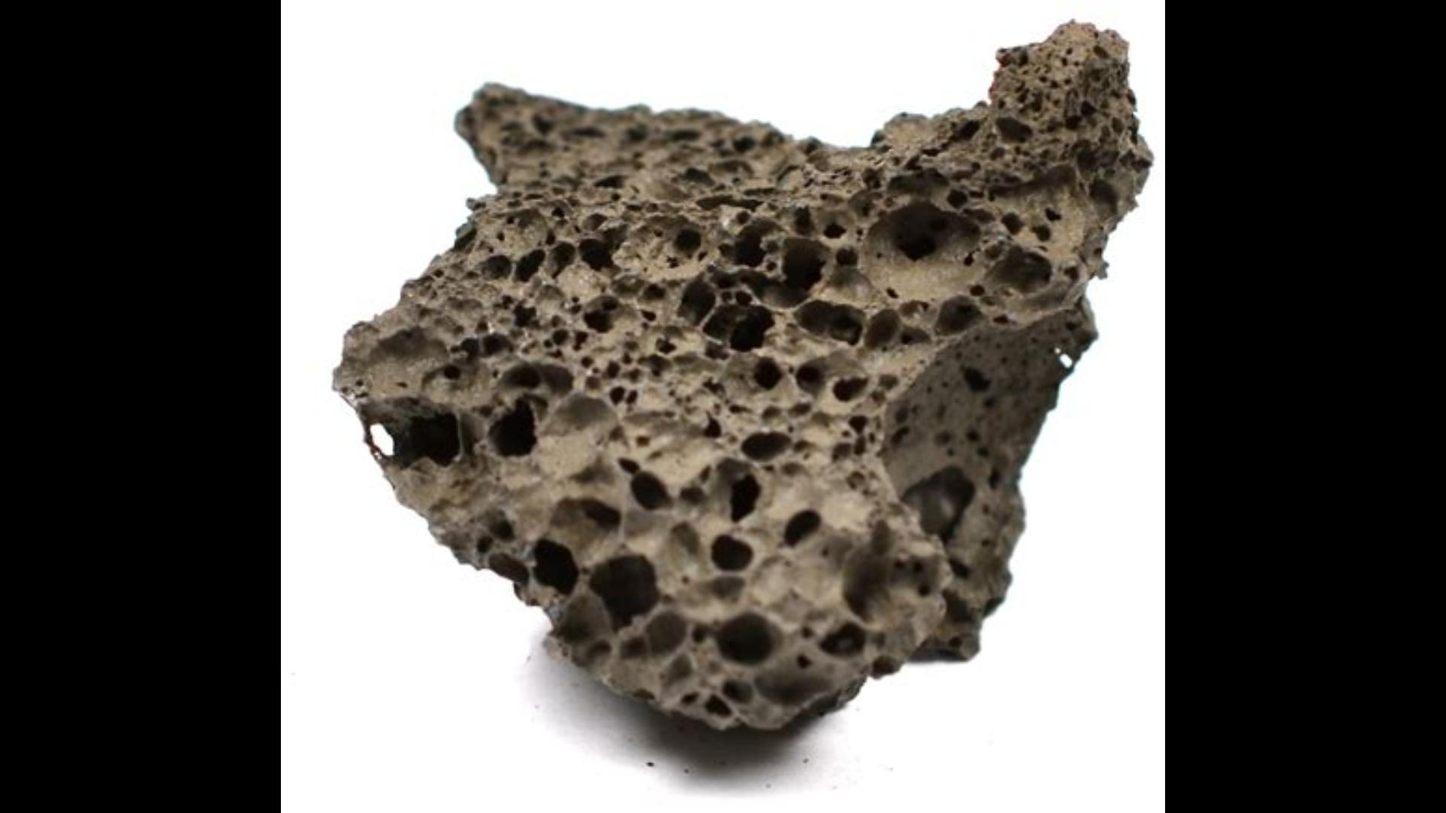rock: (333, 22, 1148, 729)
